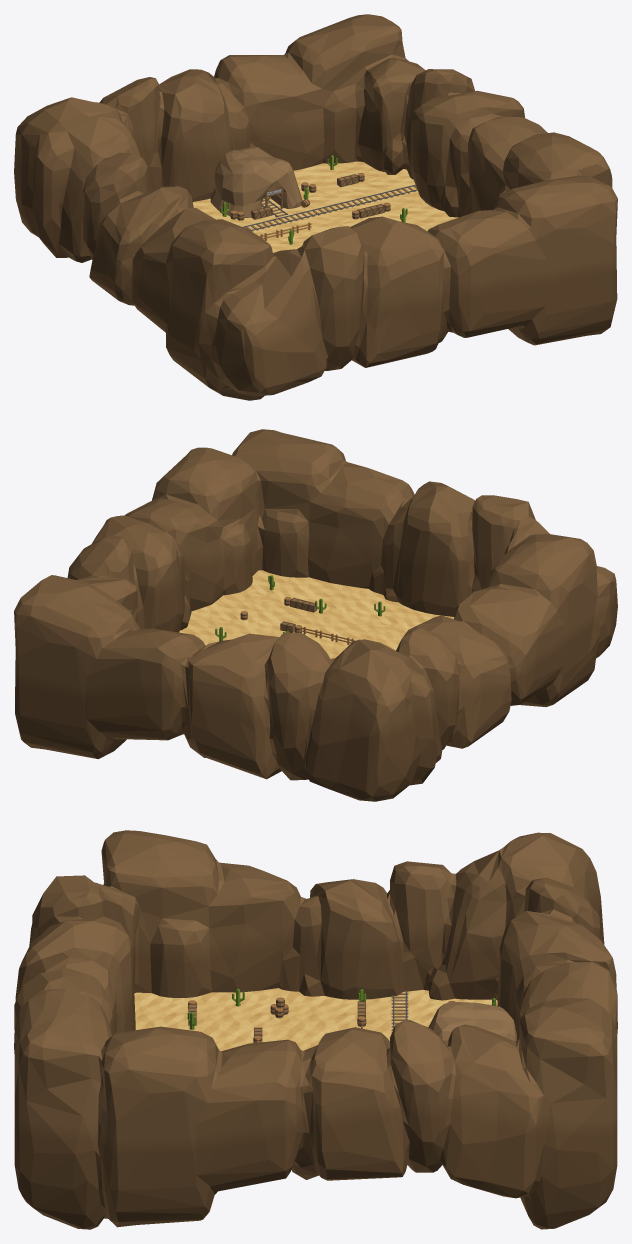
File: GoldMineFrontend.glb
3 renders of one model, top to bottom at view 1: azimuth 30°, elevation 25°; view 2: azimuth 150°, elevation 25°; view 3: azimuth 270°, elevation 25°, orthographic. The views are drawn at different scales.
Parts seen in each view (by area): view 1: Canyon, Floor, GoldMine; view 2: Canyon, Floor, GoldMine; view 3: Canyon, Floor, GoldMine.
Boxes of the visible parts, x1,y1,x2,y2 form: Canyon: [14, 14, 617, 400]; Floor: [193, 161, 458, 252]; GoldMine: [210, 147, 417, 244]; Canyon: [14, 429, 617, 801]; Floor: [179, 570, 454, 658]; GoldMine: [215, 575, 385, 641]; Canyon: [14, 830, 617, 1229]; Floor: [134, 988, 497, 1051]; GoldMine: [187, 988, 516, 1046].
Size of the model in its own units: 68.47 by 27.41 by 72.42.
Materials: 5 (5 with a texture image).
